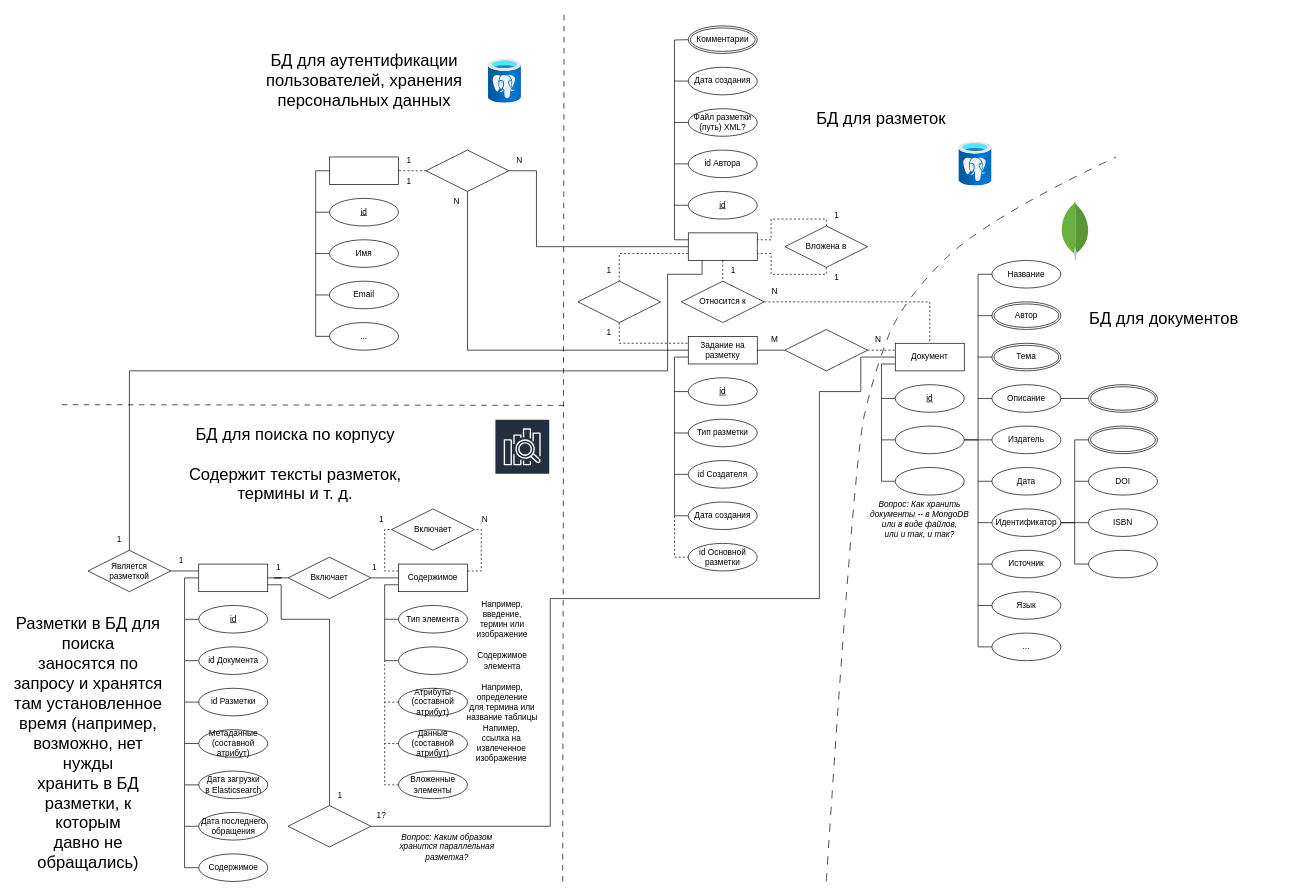
The diagram is 1306 pixels wide and 894 high, and some of its shapes have lost their labels. The shapes that lost their labels are listed below. From the top down, each one's box as (x1, y1, x2, y2) in pixels, then its label:
(329, 156, 398, 185): Пользователь
(425, 149, 509, 191): Является создателем/ принадлежит
(688, 232, 757, 260): Разметка
(577, 280, 661, 323): Является результатом выполнения
(784, 329, 868, 371): Имеет
(1088, 384, 1157, 412): Ключевые слова
(494, 418, 550, 495): Amazon Elasticsearch Service
(895, 425, 964, 454): DCMI
(1088, 425, 1157, 454): УДК
(895, 467, 964, 495): Файл (путь)
(198, 563, 268, 592): Размеченный текст
(1088, 550, 1157, 578): URL
(398, 646, 467, 674): Текст
(287, 805, 371, 847): Является разметкой документа
